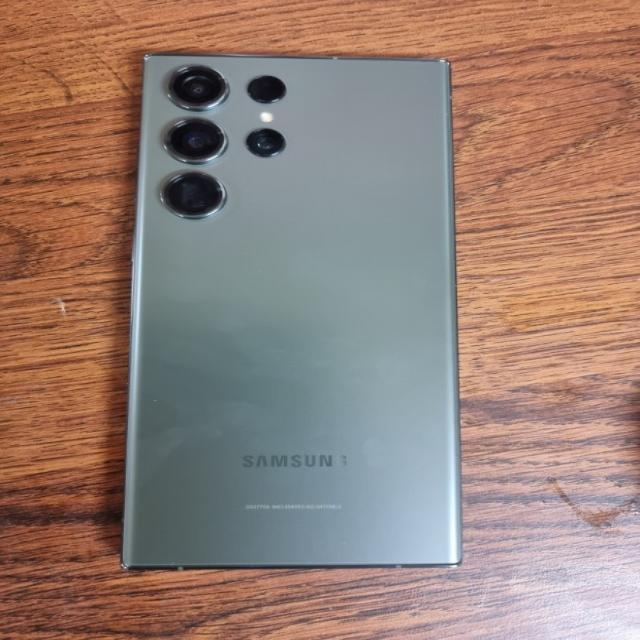phone: (126, 45, 466, 568)
